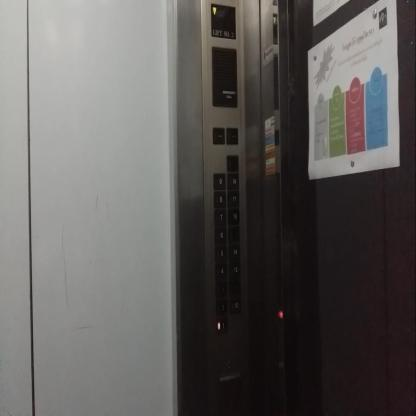1: (214, 314, 229, 336)
10: (228, 295, 242, 314)
12: (228, 260, 241, 278)
14: (228, 242, 241, 262)
16: (227, 206, 240, 226)
17: (226, 188, 240, 208)
18: (226, 170, 240, 191)
2: (214, 295, 228, 316)
3: (214, 278, 228, 296)
4: (213, 261, 228, 281)
5: (213, 243, 228, 262)
6: (212, 225, 228, 245)
7: (213, 207, 227, 226)
8: (213, 189, 226, 208)
9: (212, 171, 226, 191)
blur: (225, 126, 239, 145), (212, 126, 225, 146), (228, 278, 241, 296)
empty: (227, 224, 240, 245), (225, 154, 240, 172)
led: (209, 1, 236, 41)
